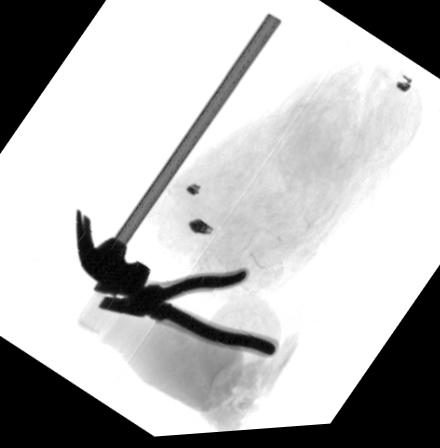Hammer: (73, 19, 281, 291)
Pliers: (91, 269, 279, 364)
